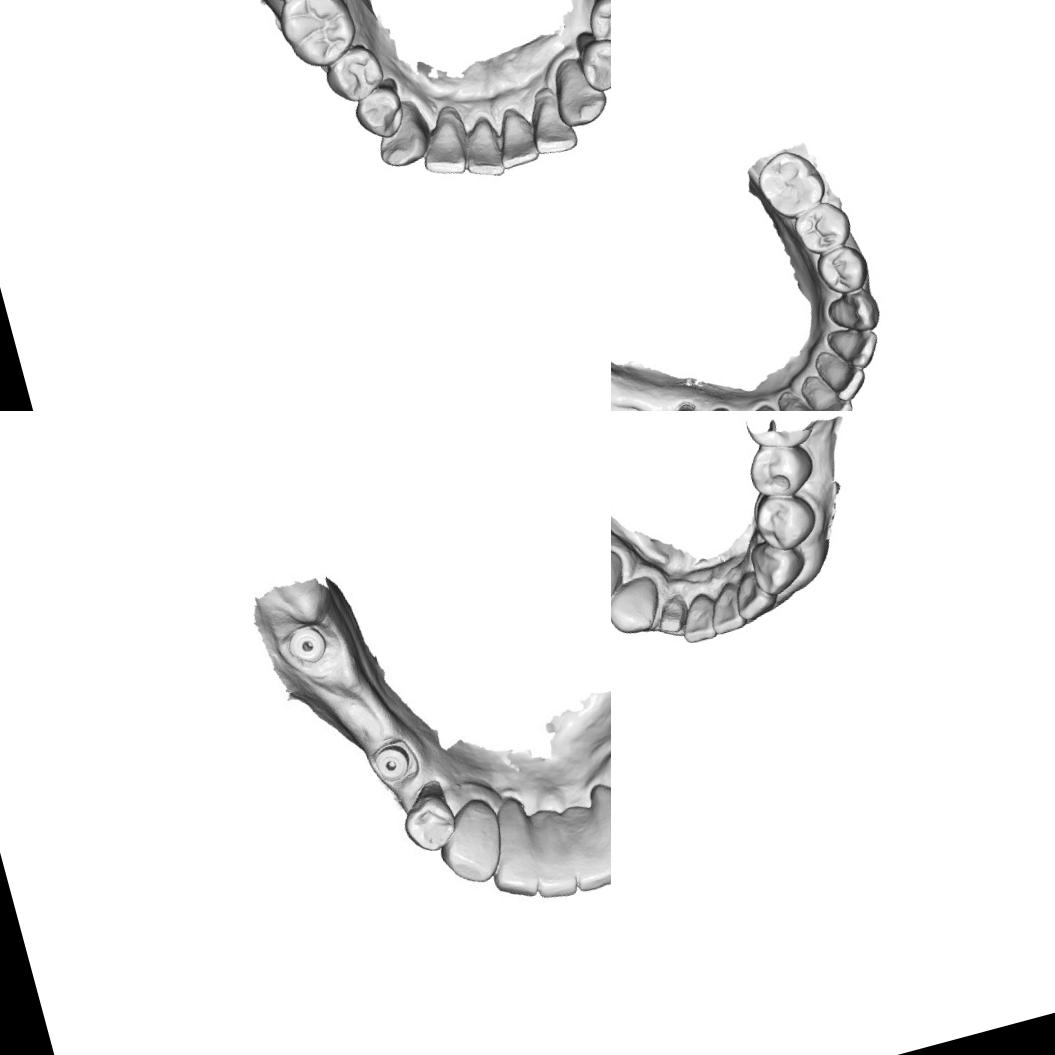canine: (432, 815, 507, 892), (366, 94, 438, 173), (543, 49, 611, 131), (745, 532, 810, 598), (611, 572, 667, 640), (824, 277, 886, 334), (734, 392, 797, 411)
crown: (652, 594, 691, 636), (658, 393, 713, 411)
implant: (362, 729, 423, 790), (277, 614, 337, 676)
incisor: (410, 100, 477, 182), (520, 81, 581, 160), (453, 113, 510, 184), (487, 101, 543, 172), (814, 341, 872, 402), (486, 846, 544, 906), (796, 362, 860, 411), (526, 849, 582, 905), (728, 566, 782, 623), (828, 316, 882, 371), (564, 837, 611, 895), (701, 580, 746, 636), (674, 592, 716, 644), (771, 380, 832, 411), (597, 809, 611, 881)
molar: (268, 0, 363, 76), (752, 142, 832, 228)
premolar: (743, 434, 820, 504), (748, 485, 822, 556), (394, 779, 462, 856), (318, 38, 390, 108), (346, 74, 410, 144), (790, 194, 855, 259), (811, 238, 872, 299), (570, 19, 611, 95), (577, 0, 611, 55), (689, 393, 752, 411)
